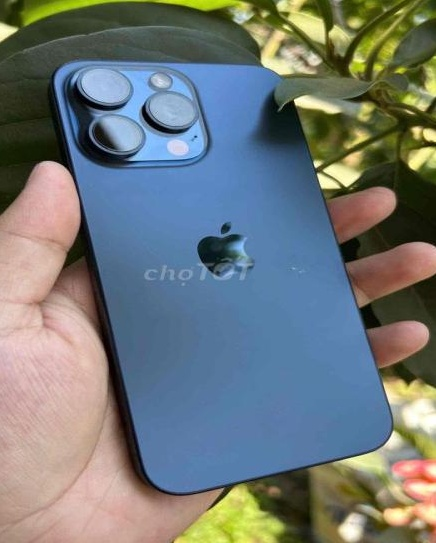scratch: (282, 259, 308, 276)
